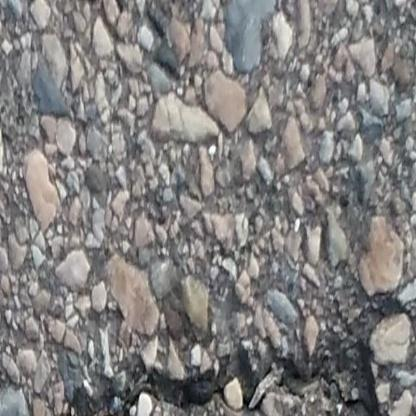Cracks: (35, 292, 416, 416), (0, 392, 9, 416)
